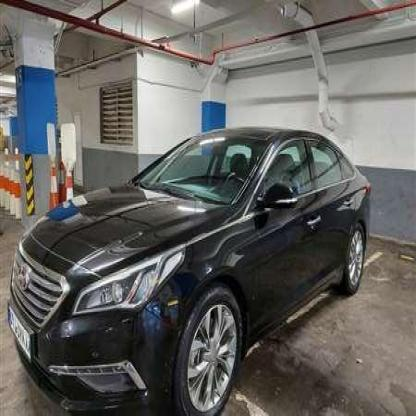Car: (15, 116, 378, 416)
